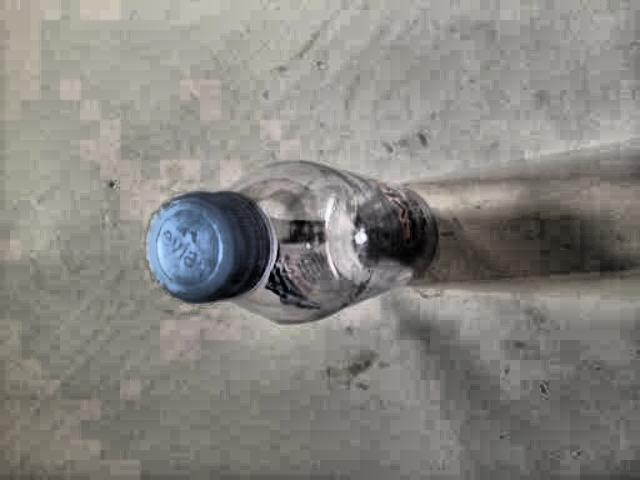Bottles: (146, 144, 457, 344)
